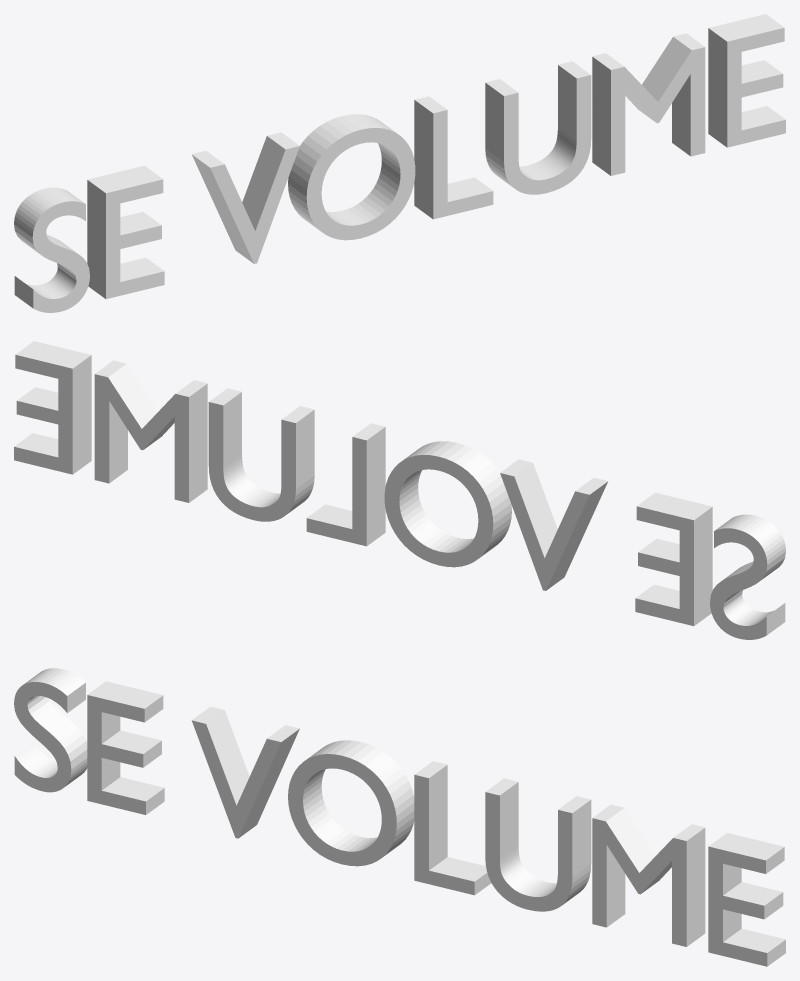
3 renders of one model, top to bottom at view 1: azimuth 30°, elevation 25°; view 2: azimuth 150°, elevation 25°; view 3: azimuth 330°, elevation 25°, orthographic.
Visible parts, largest first — view 1: テキスト; view 2: テキスト; view 3: テキスト.
Part boxes in pixels (bbox=[...]): テキスト: bbox=[14, 14, 785, 312]; テキスト: bbox=[14, 341, 785, 639]; テキスト: bbox=[14, 668, 785, 966].
Bounding box in the file's own units: 5.07 × 0.7 × 0.2184.
1 material, 1 textured.
